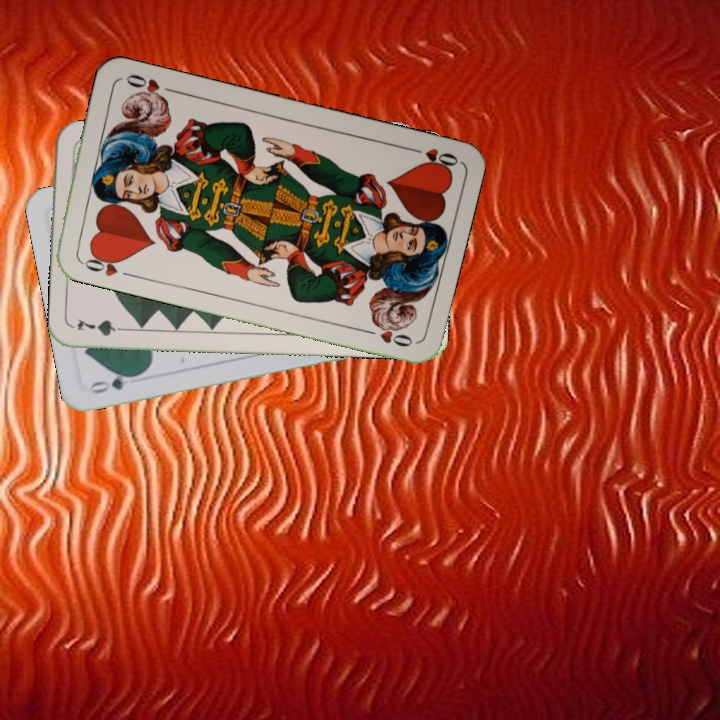G7: (73, 314, 132, 339)
GO: (84, 369, 142, 396)
HO: (75, 248, 133, 279), (402, 143, 460, 173)
